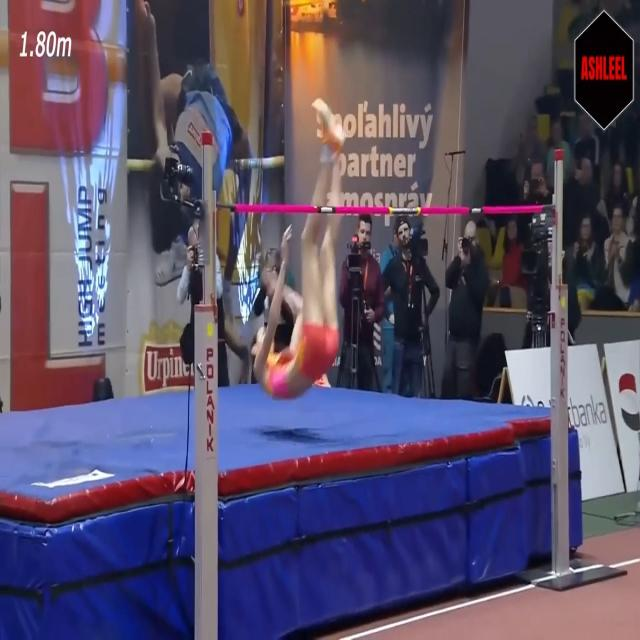land: (248, 98, 344, 398)
